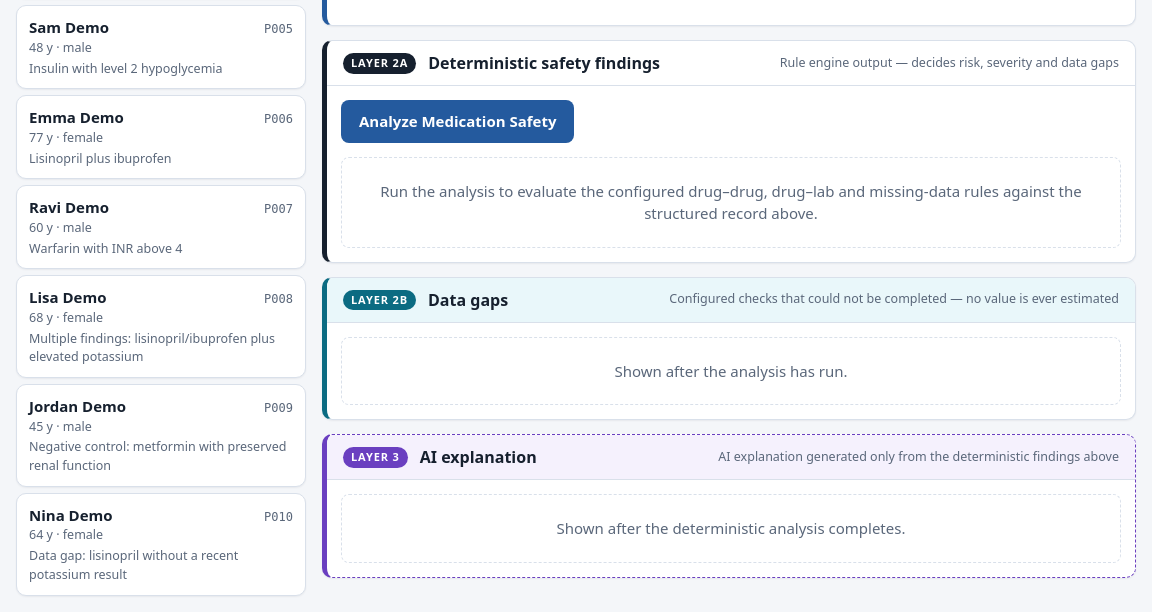
Test: analysis › renders the AI explanation in its own panel, labelled as mock, with rule-engine severities
(page scrolled)
Click the button "Lisa Demo": (161,327) [16, 275, 306, 378]
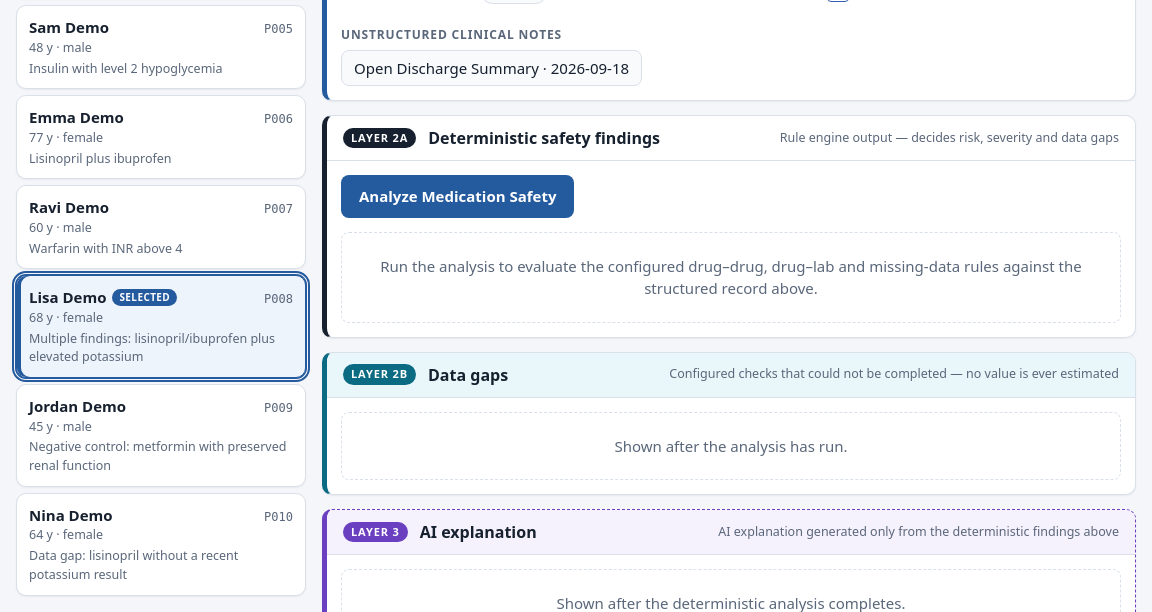
Click the button "Analyze Medication Safety": (458,196) [341, 175, 574, 218]
(page scrolled)
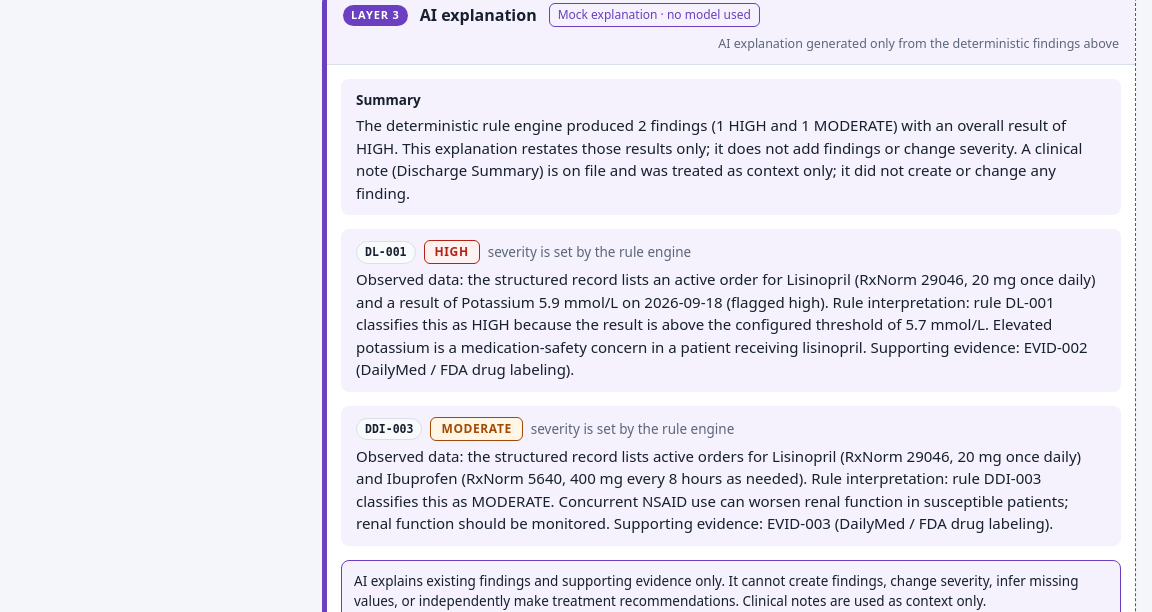
Now the text "Mock explanation · no model used" is shown, box [549, 3, 760, 27]
Now the text "cannot create findings, change severity" is shown, box [354, 572, 1078, 610]
Now the text "severity is set by the rule engine" is shown 2 times, box [488, 242, 691, 262]; [531, 419, 734, 439]
